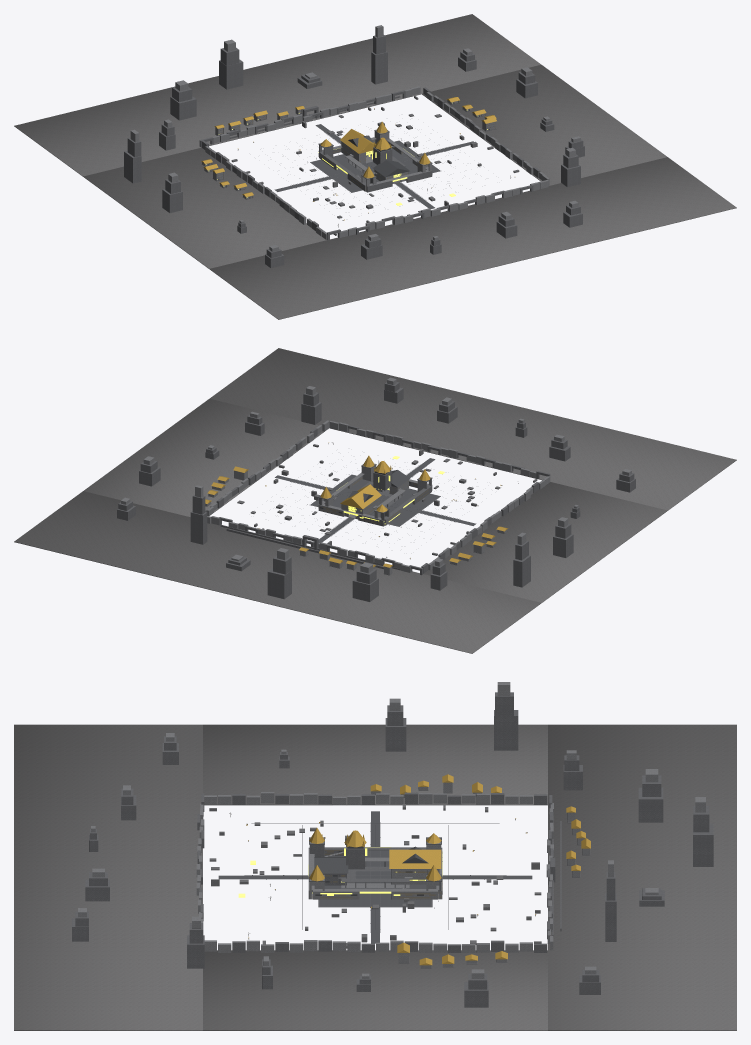
3 views of the same model, one above another, from view 1: azimuth 30°, elevation 25°; view 2: azimuth 150°, elevation 25°; view 3: azimuth 270°, elevation 25° (orthographic). The views are drawn at different scales.
Parts seen in each view (by area): view 1: HB_z04_LOD1_terrain, HB_z04_LOD1_wall_alt, HB_z04_LOD1_wall, HB_z04_LOD1_road, HB_z04_LOD1_accent, HB_z04_LOD1_obstacle, HB_z04_LOD1_trim; view 2: HB_z04_LOD1_terrain, HB_z04_LOD1_wall_alt, HB_z04_LOD1_wall, HB_z04_LOD1_road, HB_z04_LOD1_accent, HB_z04_LOD1_obstacle, HB_z04_LOD1_trim; view 3: HB_z04_LOD1_terrain, HB_z04_LOD1_wall_alt, HB_z04_LOD1_wall, HB_z04_LOD1_road, HB_z04_LOD1_accent, HB_z04_LOD1_obstacle, HB_z04_LOD1_trim.
Part boxes in pixels (x1,y1,x2,y2): HB_z04_LOD1_terrain: [14, 14, 736, 319]; HB_z04_LOD1_wall_alt: [124, 35, 584, 267]; HB_z04_LOD1_wall: [130, 25, 580, 251]; HB_z04_LOD1_road: [274, 124, 473, 208]; HB_z04_LOD1_accent: [201, 97, 496, 220]; HB_z04_LOD1_obstacle: [231, 96, 519, 235]; HB_z04_LOD1_trim: [208, 101, 495, 198]; HB_z04_LOD1_terrain: [14, 348, 736, 653]; HB_z04_LOD1_wall_alt: [117, 382, 635, 601]; HB_z04_LOD1_wall: [121, 377, 631, 574]; HB_z04_LOD1_road: [275, 458, 476, 542]; HB_z04_LOD1_accent: [205, 442, 508, 567]; HB_z04_LOD1_obstacle: [237, 444, 537, 555]; HB_z04_LOD1_trim: [292, 464, 451, 539]; HB_z04_LOD1_terrain: [14, 724, 736, 1030]; HB_z04_LOD1_wall_alt: [72, 692, 713, 1007]; HB_z04_LOD1_wall: [78, 682, 705, 978]; HB_z04_LOD1_road: [218, 811, 532, 943]; HB_z04_LOD1_accent: [246, 774, 590, 965]; HB_z04_LOD1_obstacle: [209, 804, 541, 948]; HB_z04_LOD1_trim: [251, 787, 499, 929].
Size of the model in its own units: 650 by 75.65 by 650.
Materials: 10 (8 with a texture image).
